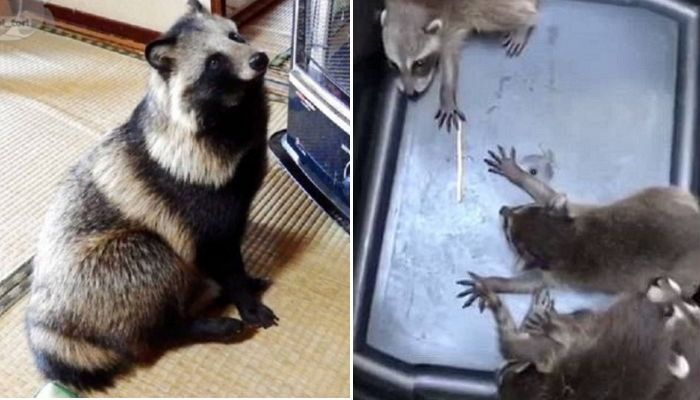raccoon: (13, 3, 292, 400)
